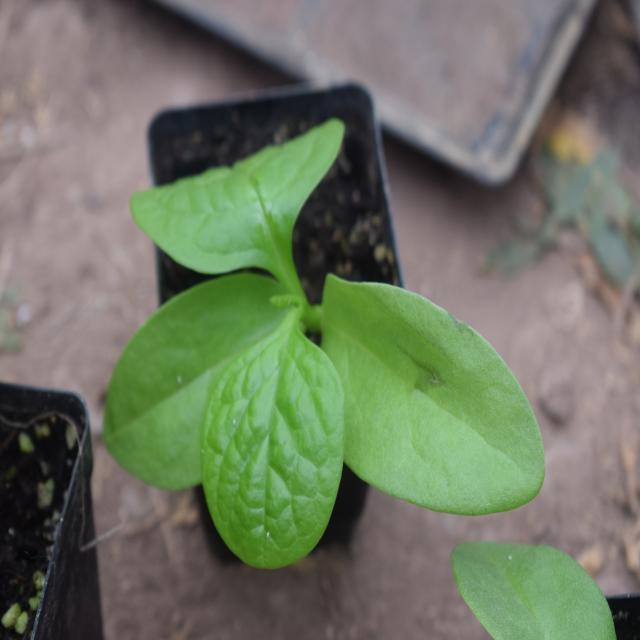Ceylon spinach: (94, 143, 530, 520)
